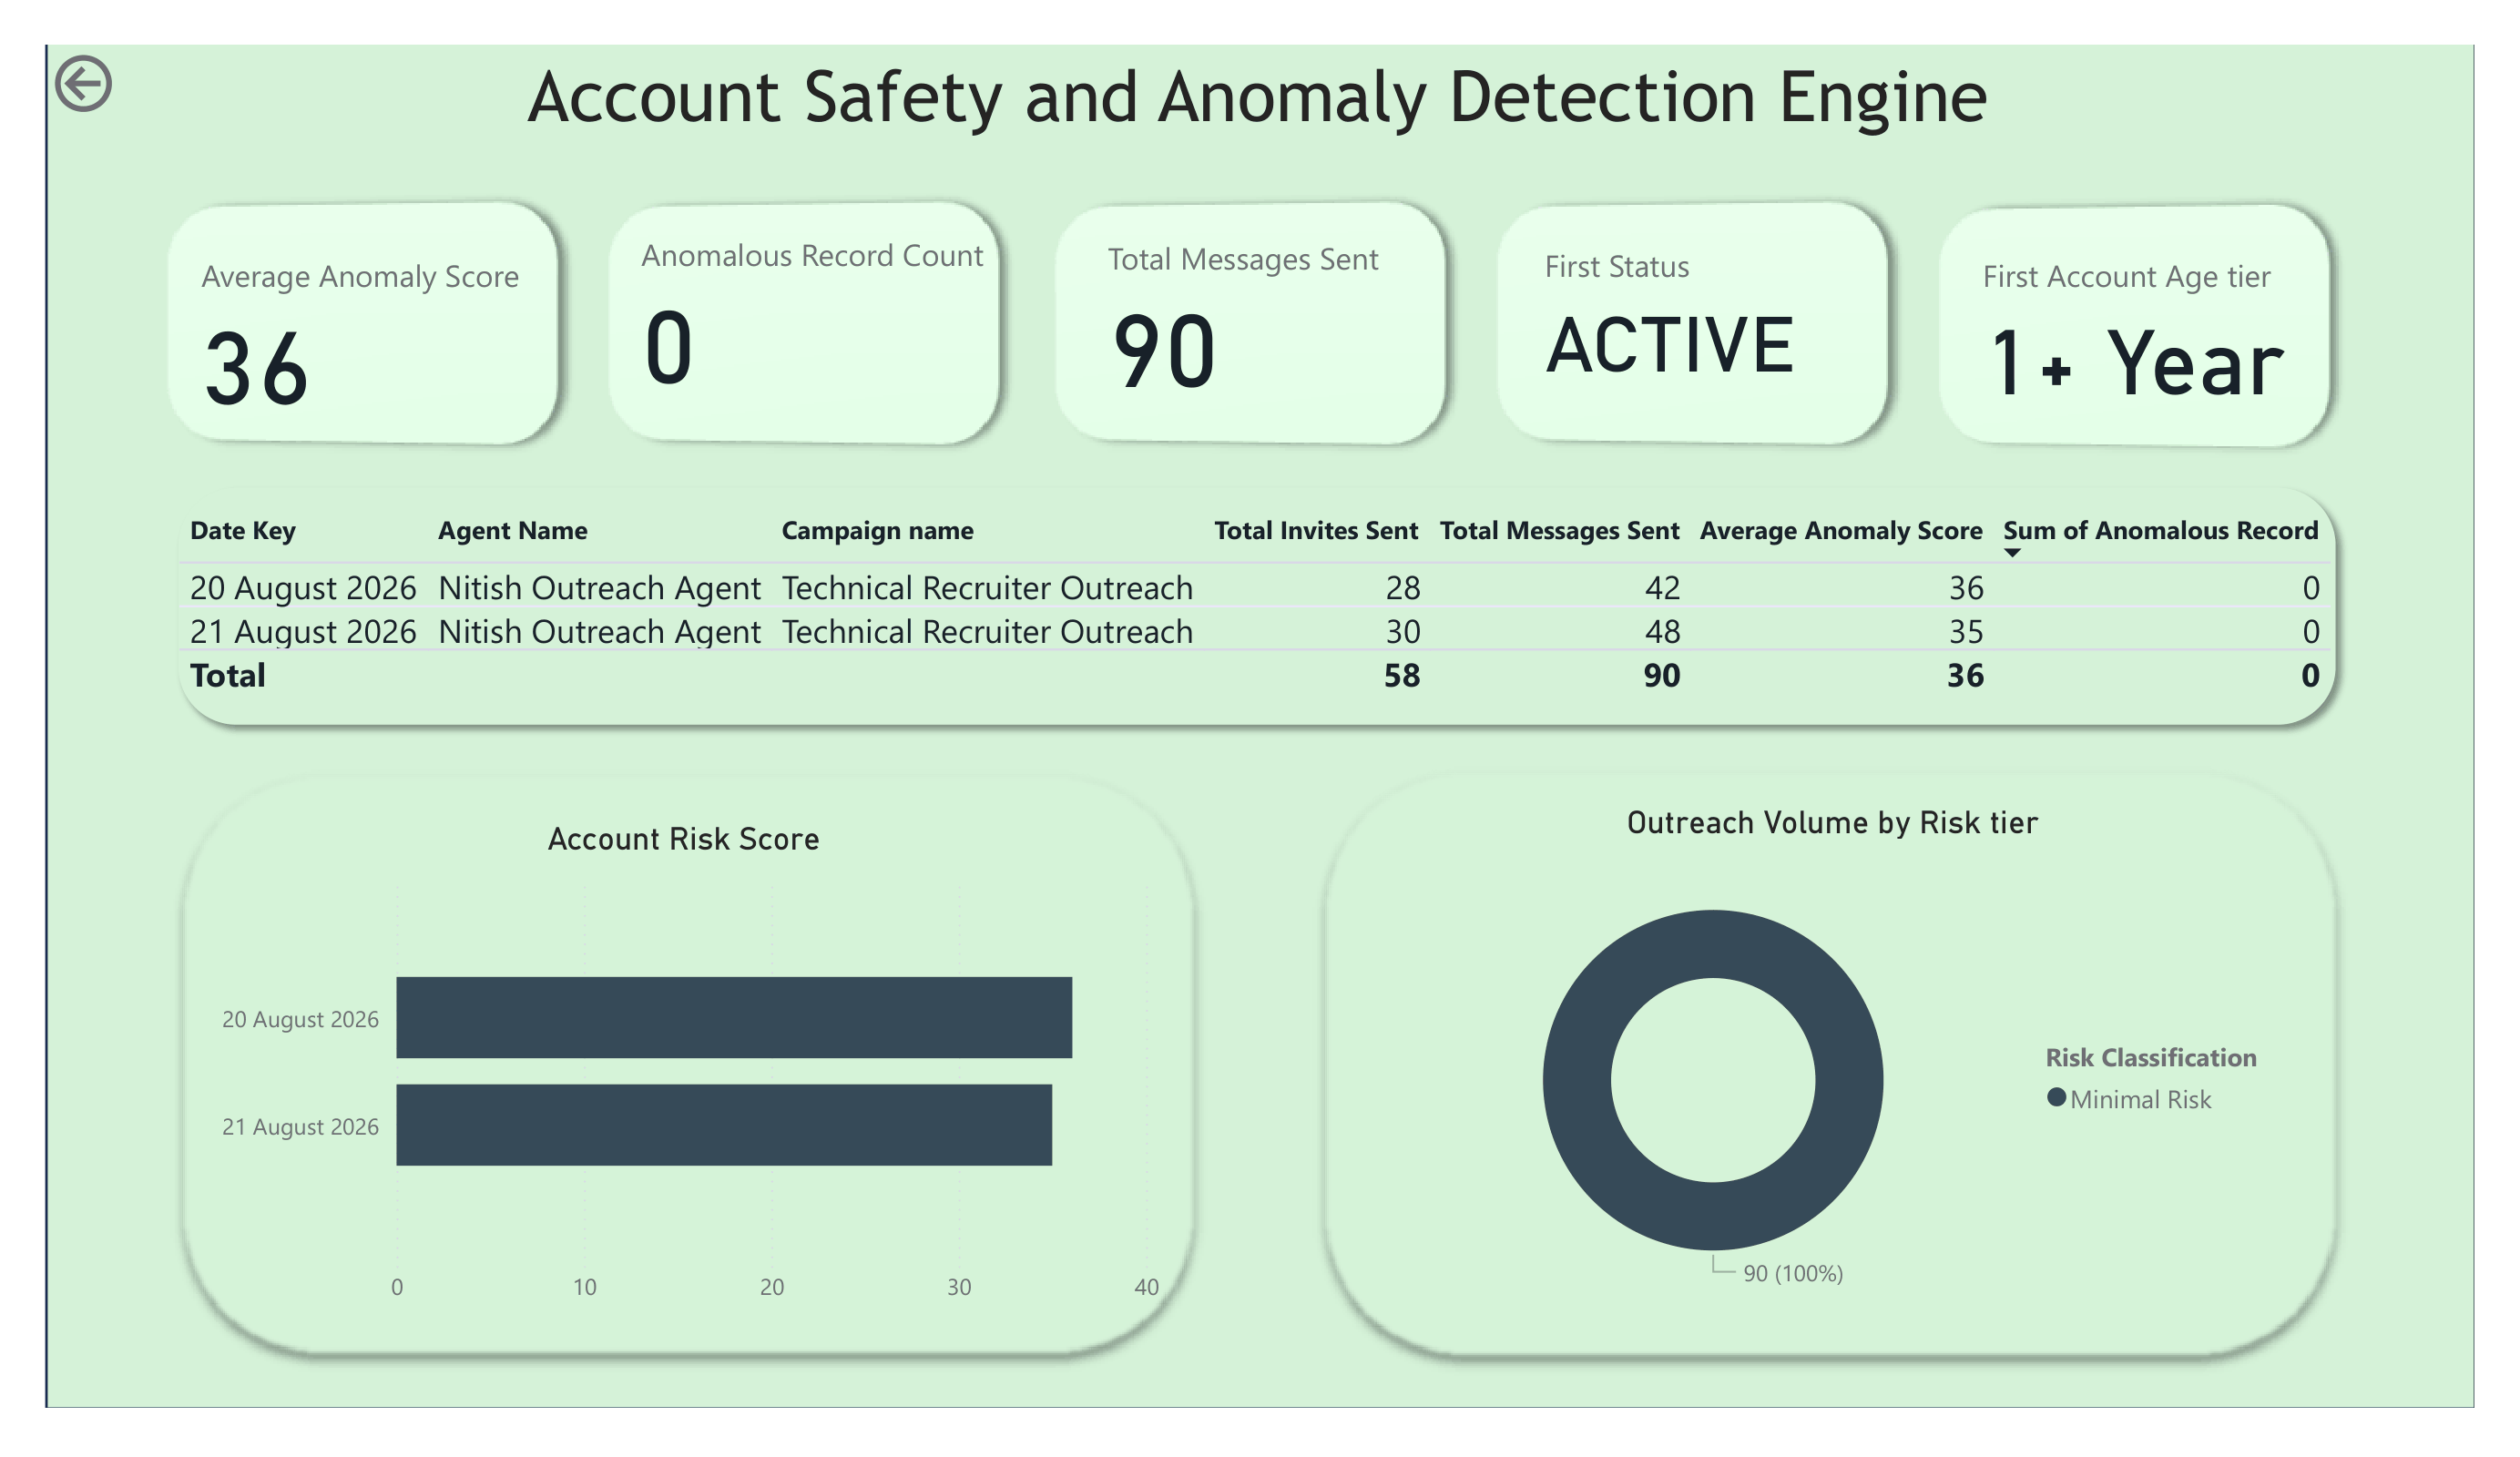

This screenshot's page, from the dashboard's own definition file:
{"tool":"powerbi","page":{"name":"Risk & Anomaly Engine","canvas":[1280,720],"ordinal":2},"visuals":[{"type":"textbox","box":[222,0,833.7,53.1],"z":0},{"type":"cardVisual","fields":{"Data":["_Measures.Average Anomaly Score"]},"box":[65.1,91.7,211.1,109.8],"z":1000},{"type":"cardVisual","fields":{"Data":["_Measures.Anomalous Record Count"]},"box":[296.8,80.8,217.2,120.6],"z":2000},{"type":"cardVisual","fields":{"Data":["_Measures.Total Messages Sent"]},"box":[542.9,83.2,188.2,118.2],"z":3000},{"type":"clusteredBarChart","title":"Account Risk Score","fields":{"Category":["fact_daily_outreach.date_key"],"Y":["_Measures.Average Anomaly Score"]},"box":[80.8,407.8,511.5,265.4],"z":4000},{"type":"tableEx","fields":{"Values":["fact_daily_outreach.date_key","dim_agent.agent_name","dim_campaign.campaign_name","_Measures.Total Invites Sent","_Measures.Total Messages Sent","_Measures.Average Anomaly Score","Sum(fact_daily_outreach.is_anomalous)"]},"box":[65.1,241.3,1148.5,108.6],"z":5000},{"type":"actionButton","box":[0,0,100,40],"z":6000},{"type":"donutChart","title":"Outreach Volume by Risk tier","fields":{"Category":["dim_agent.risk_classification"],"Y":["_Measures.Total Messages Sent"]},"box":[698.5,399.3,486.2,273.9],"z":7000},{"type":"cardVisual","title":"Dim Agent Status","fields":{"Data":["Min(dim_agent.status)"]},"box":[773.3,83.2,193,118.2],"z":8000},{"type":"cardVisual","fields":{"Data":["Min(dim_agent.account_age_tier)"]},"box":[1003.8,91.7,196.6,109.8],"z":9000}]}

Visuals, with their boxes on the page's 1280x720 design canvas (x1, y1, x2, y2). These are canvas units, not pixel positions in the 2520x1457 screenshot, which may show the page scaled, cropped or inside an application window:
textbox: <region>222, 0, 1056, 53</region>
cardVisual - _Measures.Average Anomaly Score: <region>65, 92, 276, 202</region>
cardVisual - _Measures.Anomalous Record Count: <region>297, 81, 514, 201</region>
cardVisual - _Measures.Total Messages Sent: <region>543, 83, 731, 201</region>
"Account Risk Score" clusteredBarChart: <region>81, 408, 592, 673</region>
tableEx - fact_daily_outreach.date_key x dim_agent.agent_name: <region>65, 241, 1214, 350</region>
actionButton: <region>0, 0, 100, 40</region>
"Outreach Volume by Risk tier" donutChart: <region>698, 399, 1185, 673</region>
"Dim Agent Status" cardVisual: <region>773, 83, 966, 201</region>
cardVisual - Min(dim_agent.account_age_tier): <region>1004, 92, 1200, 202</region>
